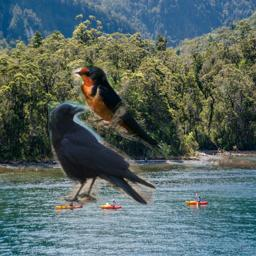Crow: (48, 99, 156, 209)
Swallow: (71, 62, 170, 158)
